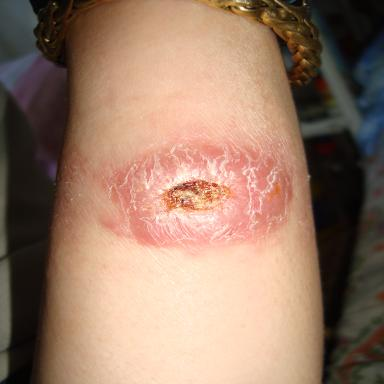Leishmanios: (110, 141, 291, 246)
